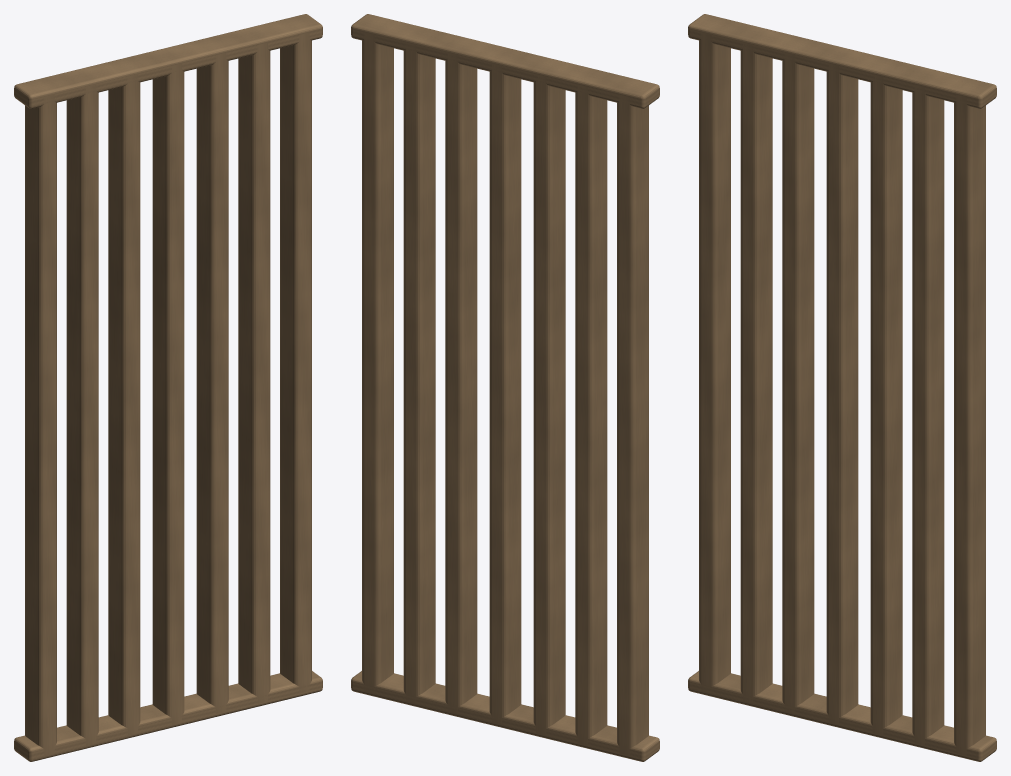
File: slat-partition.glb
3 views of the same model, side by side, from view 1: azimuth 30°, elevation 25°; view 2: azimuth 150°, elevation 25°; view 3: azimuth 330°, elevation 25° (orthographic).
Parts seen in each view (by area): view 1: CANONICAL slat 3, CANONICAL slat 6, CANONICAL slat 5, CANONICAL slat 2, CANONICAL slat 4, CANONICAL slat 1, CANONICAL slat 7, CANONICAL ceiling rail, CANONICAL floor rail; view 2: CANONICAL slat 2, CANONICAL slat 3, CANONICAL slat 4, CANONICAL slat 6, CANONICAL slat 5, CANONICAL slat 1, CANONICAL slat 7, CANONICAL ceiling rail, CANONICAL floor rail; view 3: CANONICAL slat 2, CANONICAL slat 5, CANONICAL slat 6, CANONICAL slat 4, CANONICAL slat 3, CANONICAL slat 7, CANONICAL slat 1, CANONICAL ceiling rail, CANONICAL floor rail.
Part boxes in pixels (x1=…): CANONICAL slat 3: x1=108, y1=74, x2=140, y2=735; CANONICAL slat 6: x1=238, y1=42, x2=270, y2=703; CANONICAL slat 5: x1=196, y1=53, x2=228, y2=713; CANONICAL slat 2: x1=66, y1=84, x2=98, y2=745; CANONICAL slat 4: x1=152, y1=63, x2=184, y2=724; CANONICAL slat 1: x1=25, y1=94, x2=56, y2=755; CANONICAL slat 7: x1=280, y1=32, x2=311, y2=693; CANONICAL ceiling rail: x1=14, y1=14, x2=322, y2=108; CANONICAL floor rail: x1=14, y1=671, x2=322, y2=761; CANONICAL slat 2: x1=575, y1=84, x2=607, y2=745; CANONICAL slat 3: x1=533, y1=75, x2=565, y2=735; CANONICAL slat 4: x1=489, y1=63, x2=521, y2=724; CANONICAL slat 6: x1=403, y1=43, x2=435, y2=703; CANONICAL slat 5: x1=445, y1=53, x2=477, y2=713; CANONICAL slat 1: x1=617, y1=94, x2=648, y2=755; CANONICAL slat 7: x1=362, y1=32, x2=393, y2=693; CANONICAL ceiling rail: x1=351, y1=14, x2=659, y2=108; CANONICAL floor rail: x1=351, y1=671, x2=659, y2=761; CANONICAL slat 2: x1=740, y1=42, x2=772, y2=703; CANONICAL slat 5: x1=870, y1=75, x2=902, y2=735; CANONICAL slat 6: x1=912, y1=84, x2=944, y2=745; CANONICAL slat 4: x1=826, y1=63, x2=858, y2=724; CANONICAL slat 3: x1=782, y1=53, x2=814, y2=713; CANONICAL slat 7: x1=954, y1=94, x2=985, y2=755; CANONICAL slat 1: x1=699, y1=32, x2=730, y2=693; CANONICAL ceiling rail: x1=688, y1=14, x2=996, y2=108; CANONICAL floor rail: x1=688, y1=671, x2=996, y2=761.
Size of the model in its own units: 1.2 by 2.6 by 0.12.
1 material, 1 textured.
